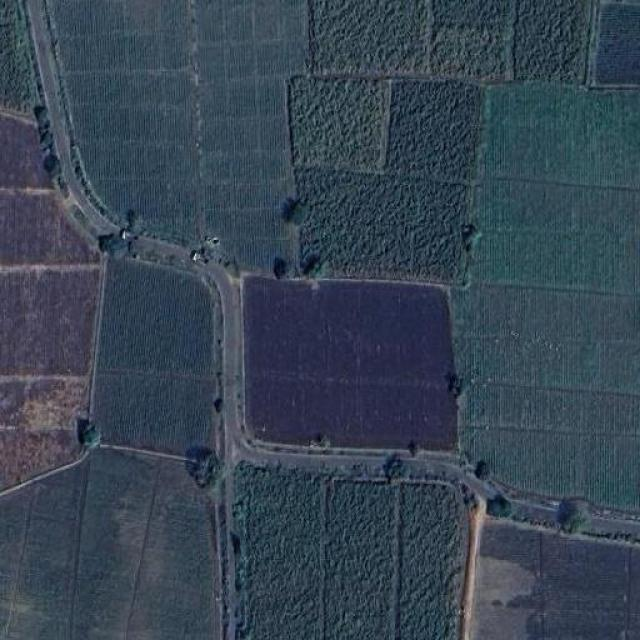land-Sx1C: (452, 84, 640, 512), (48, 0, 305, 269), (236, 462, 468, 640), (0, 449, 215, 640), (245, 278, 458, 449), (92, 258, 216, 454), (474, 519, 640, 640), (299, 172, 462, 282), (308, 0, 506, 74), (0, 269, 96, 373), (0, 376, 88, 487), (385, 81, 479, 184), (290, 79, 390, 171), (0, 190, 96, 264), (514, 0, 591, 83), (0, 0, 40, 113), (589, 0, 640, 87), (0, 112, 51, 188)
